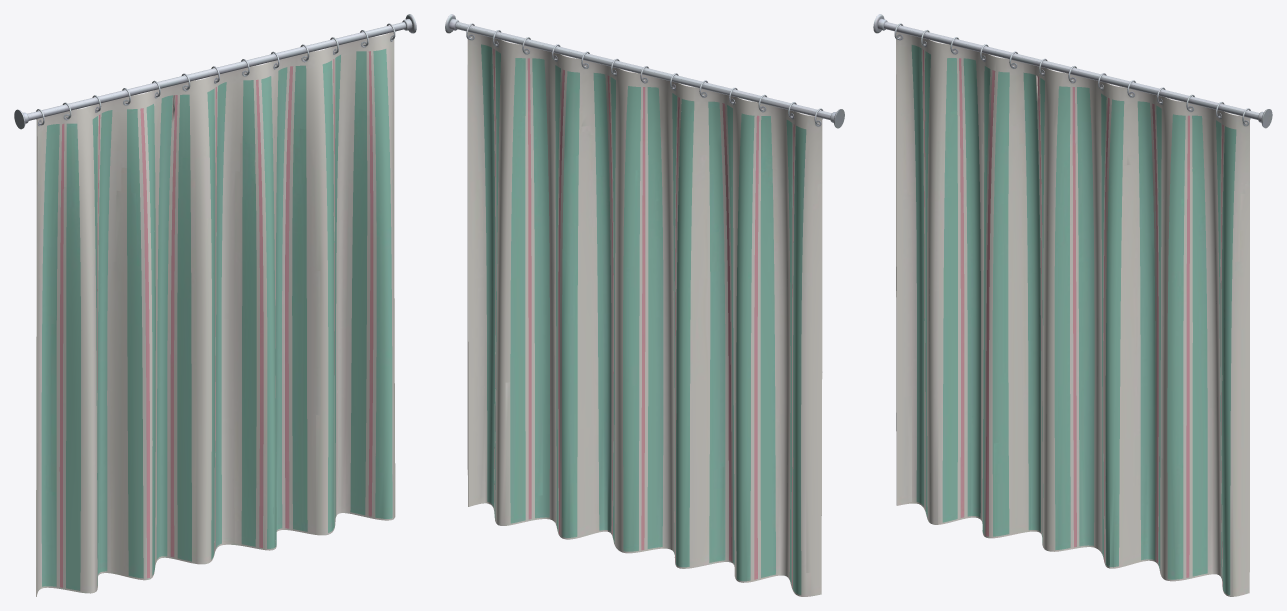
Rendered from ShowerCurtainCC0.fbx.
3 renders of one model, left to right at view 1: azimuth 30°, elevation 25°; view 2: azimuth 150°, elevation 25°; view 3: azimuth 330°, elevation 25°, orthographic.
Parts seen in each view (by area): view 1: shower-curtain_body; view 2: shower-curtain_body; view 3: shower-curtain_body.
Part boxes in pixels (bbox=[...]): shower-curtain_body: bbox=[14, 14, 416, 596]; shower-curtain_body: bbox=[445, 14, 844, 596]; shower-curtain_body: bbox=[873, 14, 1272, 596].
Bounding box in the file's own units: 1.54 × 1.84 × 0.1457.
Materials: 1 (1 with a texture image).
